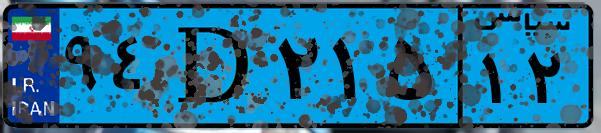1: (330, 28, 385, 110), (475, 38, 525, 113)
2: (270, 28, 330, 110), (525, 38, 570, 115)
4: (110, 28, 158, 98)
5: (385, 28, 445, 110)
9: (57, 26, 110, 100)
D: (158, 12, 270, 120)
